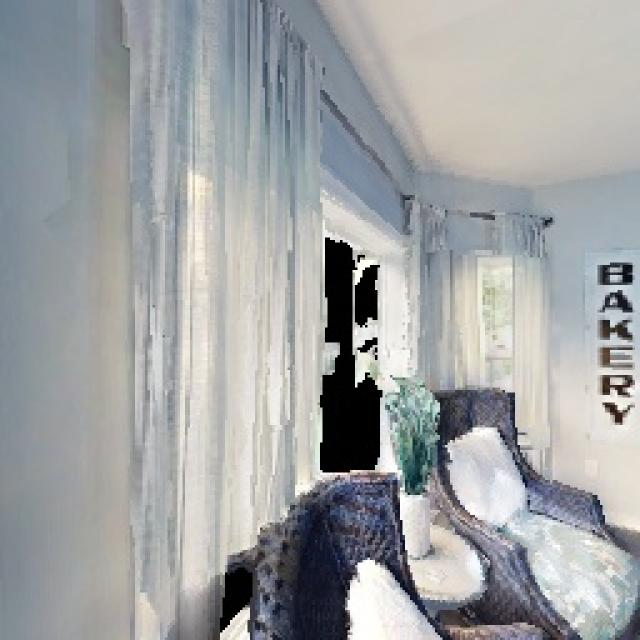sofa: (406, 349, 640, 640)
